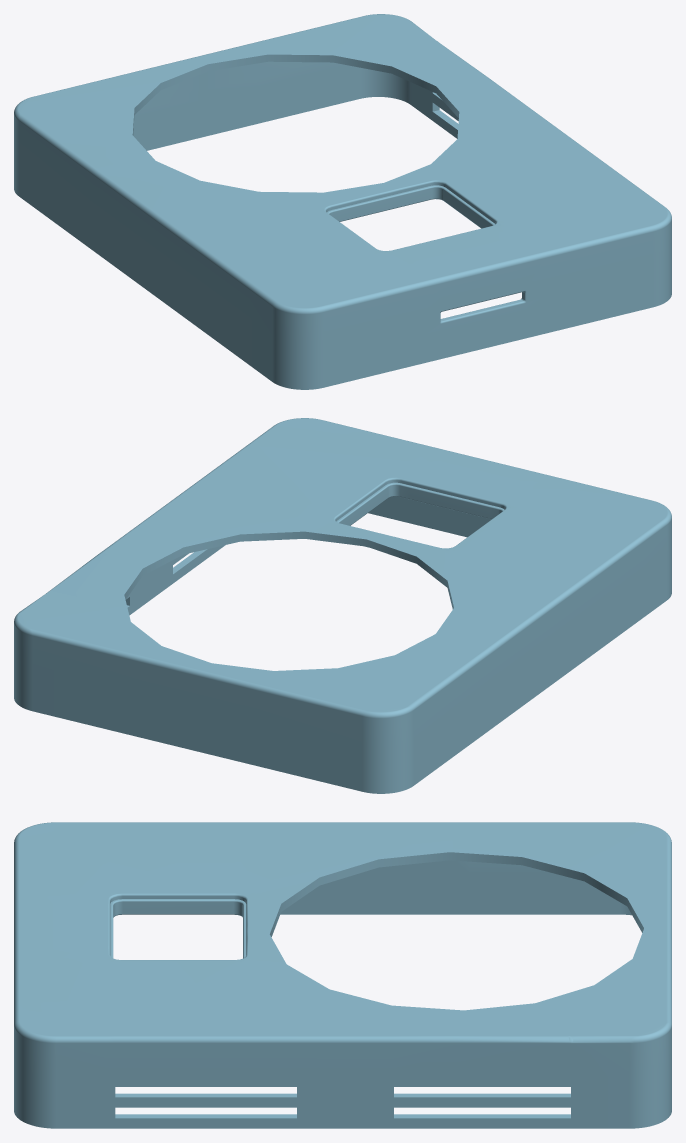
3 views of the same model, one above another, from view 1: azimuth 30°, elevation 25°; view 2: azimuth 150°, elevation 25°; view 3: azimuth 270°, elevation 25° (orthographic). The views are drawn at different scales.
Parts seen in each view (by area): view 1: polySurface3; view 2: polySurface3; view 3: polySurface3.
Part boxes in pixels (x1,y1,x2,y2): polySurface3: [14, 14, 671, 389]; polySurface3: [14, 418, 671, 793]; polySurface3: [14, 822, 671, 1128].
Bounding box in the file's own units: 11.4 × 2.2 × 14.55.
